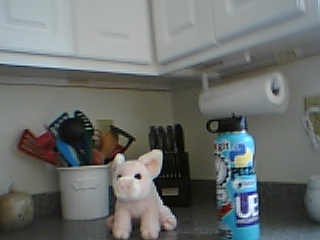piggy: (104, 147, 179, 240)
